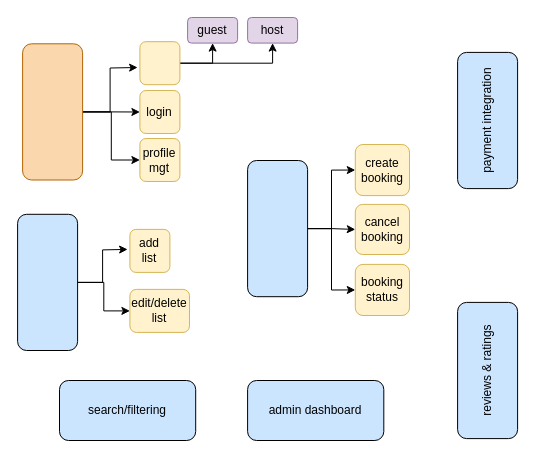
Some shapes in this 535 by 458 pixel diagram are drawn without their labels. Here are the shapes that lost their labels. From the top down, the box of each, then its label:
(139, 41, 180, 85): user reg
(22, 43, 83, 180): user management
(247, 160, 308, 297): booking management
(17, 213, 78, 350): property listing
